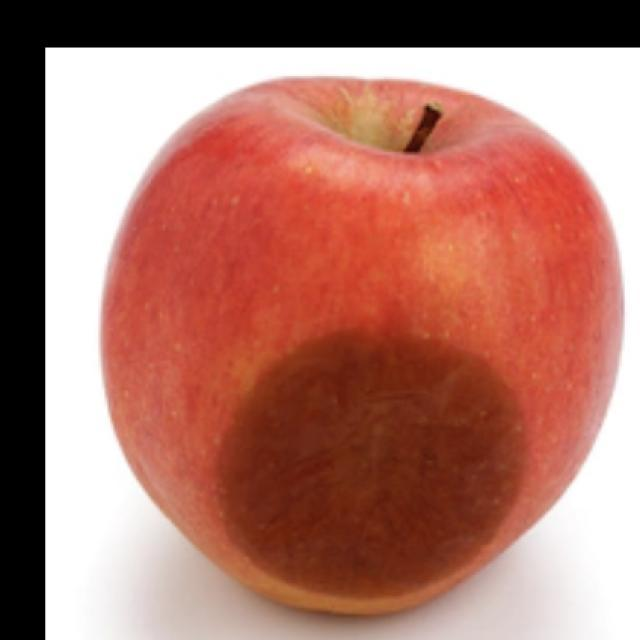Rotten: (85, 72, 637, 630)
